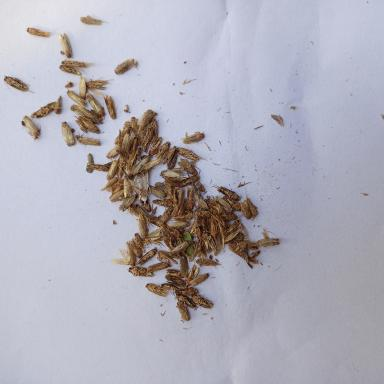abw: (124, 167, 152, 205)
pbw: (210, 183, 240, 201), (23, 116, 41, 142), (145, 227, 166, 249), (86, 93, 105, 117), (176, 147, 208, 161), (130, 116, 144, 146), (135, 247, 157, 265), (35, 100, 57, 118), (66, 88, 86, 106), (118, 194, 138, 212), (177, 158, 198, 175), (114, 125, 131, 146), (79, 116, 100, 133), (58, 33, 72, 58), (75, 132, 100, 146), (223, 226, 243, 243), (147, 136, 163, 157), (104, 94, 117, 119), (61, 121, 74, 146), (130, 157, 148, 175), (108, 179, 125, 198), (215, 195, 234, 212), (114, 58, 134, 74), (169, 240, 190, 255), (185, 264, 199, 286), (80, 15, 108, 26), (26, 28, 56, 38), (158, 249, 178, 264), (182, 131, 205, 144), (127, 266, 154, 277), (175, 294, 196, 308), (178, 175, 200, 188), (158, 167, 184, 178), (201, 228, 214, 250), (128, 239, 142, 259), (141, 129, 153, 152), (136, 204, 152, 221), (223, 196, 241, 211), (137, 193, 151, 212), (191, 296, 213, 308), (142, 213, 162, 226), (62, 60, 94, 68), (224, 220, 240, 236), (137, 109, 153, 125), (148, 184, 166, 198), (156, 141, 170, 159), (179, 253, 189, 278), (190, 272, 209, 285), (188, 216, 201, 235), (207, 217, 218, 239), (133, 233, 145, 253), (146, 284, 166, 296), (130, 147, 142, 167), (78, 105, 95, 119), (162, 146, 176, 163), (117, 156, 126, 182), (177, 302, 190, 320), (138, 214, 148, 237), (148, 261, 171, 271), (167, 150, 179, 169), (100, 178, 119, 190), (216, 221, 224, 249), (109, 188, 125, 202), (160, 223, 173, 240), (162, 282, 184, 292), (59, 65, 81, 75), (142, 158, 162, 169), (107, 160, 118, 180), (246, 198, 258, 216), (115, 145, 130, 159), (195, 258, 221, 266), (161, 206, 174, 222), (256, 238, 279, 247), (176, 231, 185, 254), (193, 241, 205, 258), (165, 268, 182, 280), (208, 200, 225, 212), (78, 77, 87, 99), (126, 204, 140, 218), (106, 146, 121, 159), (86, 163, 110, 171), (240, 200, 250, 219), (187, 187, 195, 210), (194, 226, 203, 246), (175, 211, 195, 220), (130, 137, 138, 158), (172, 188, 179, 212), (70, 104, 85, 115), (167, 220, 190, 227), (176, 189, 186, 205), (178, 287, 198, 295), (152, 198, 172, 206), (125, 135, 135, 151), (84, 116, 103, 124), (219, 212, 237, 220), (76, 121, 87, 133), (120, 133, 128, 149), (213, 237, 220, 255), (54, 96, 61, 114), (91, 109, 102, 120), (164, 178, 179, 186), (166, 278, 186, 284), (166, 183, 173, 199), (196, 182, 206, 192), (164, 239, 174, 249), (87, 152, 94, 166), (193, 203, 201, 215), (170, 230, 179, 238), (154, 120, 158, 138), (150, 206, 157, 216)
